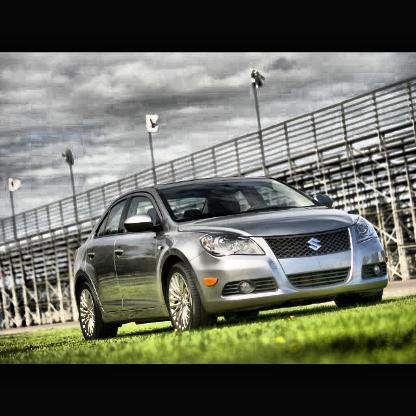Suzuki Kizashi Sedan 2012: (73, 174, 392, 343)
